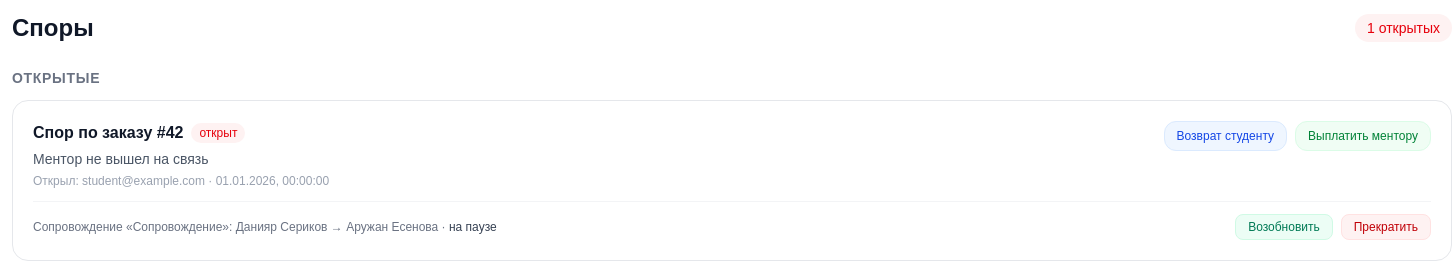
Test case: CRMDisputesPage › resumes a paused engagement without requiring a reason
Click the button "Возобновить" at (1284, 227), box [1235, 214, 1333, 240]
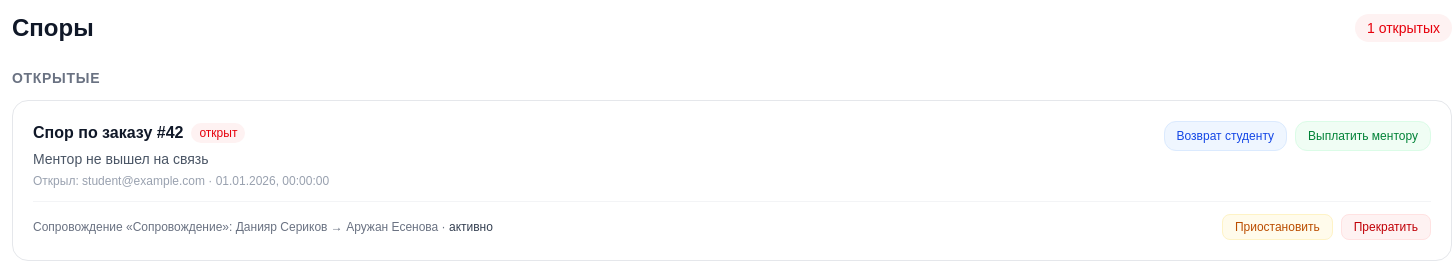
Now the text "активно" is shown, box [449, 220, 493, 234]
